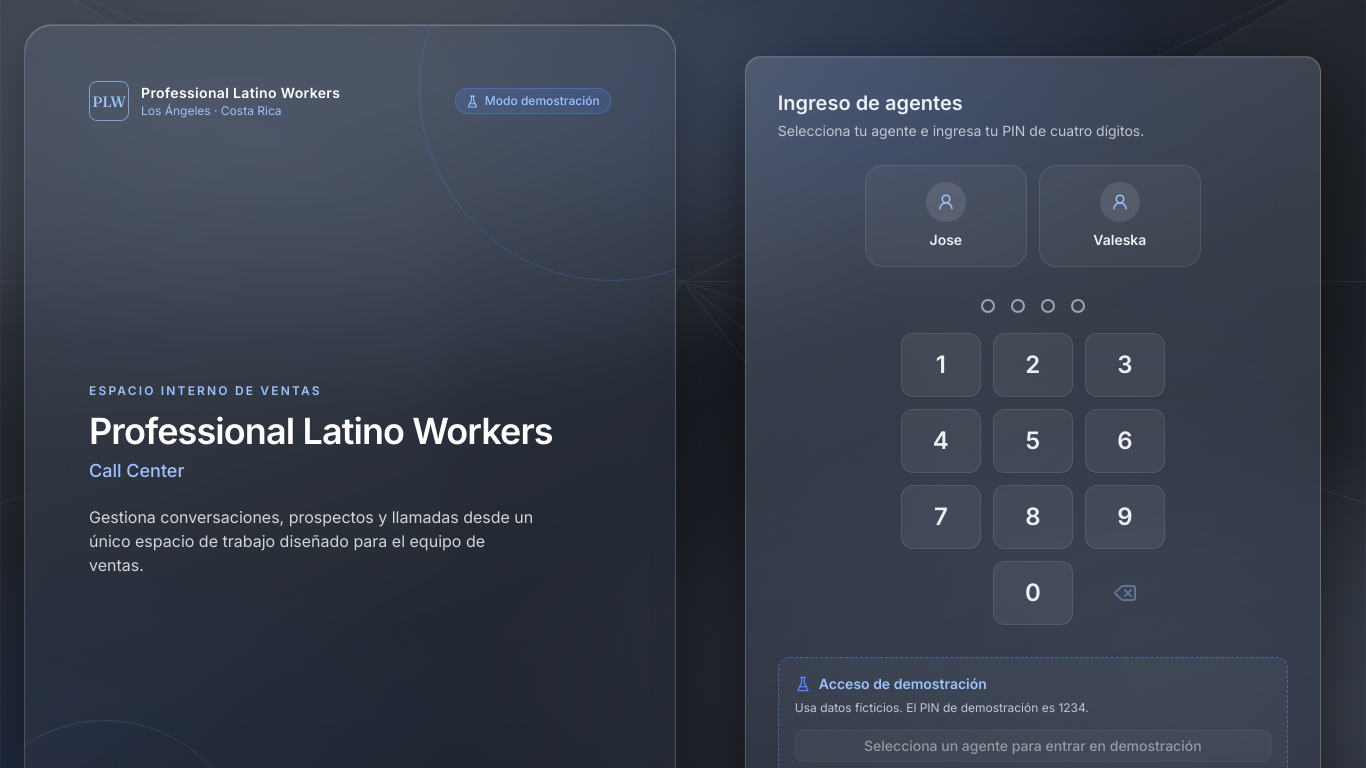
Test: a wrong PIN shows why and can be typed again
The width and height of the screenshot is (1366, 768).
Later steps or results of the test are not shown.
Click the radio button labelled "Jose" at (946, 216), box [865,165,1027,267]
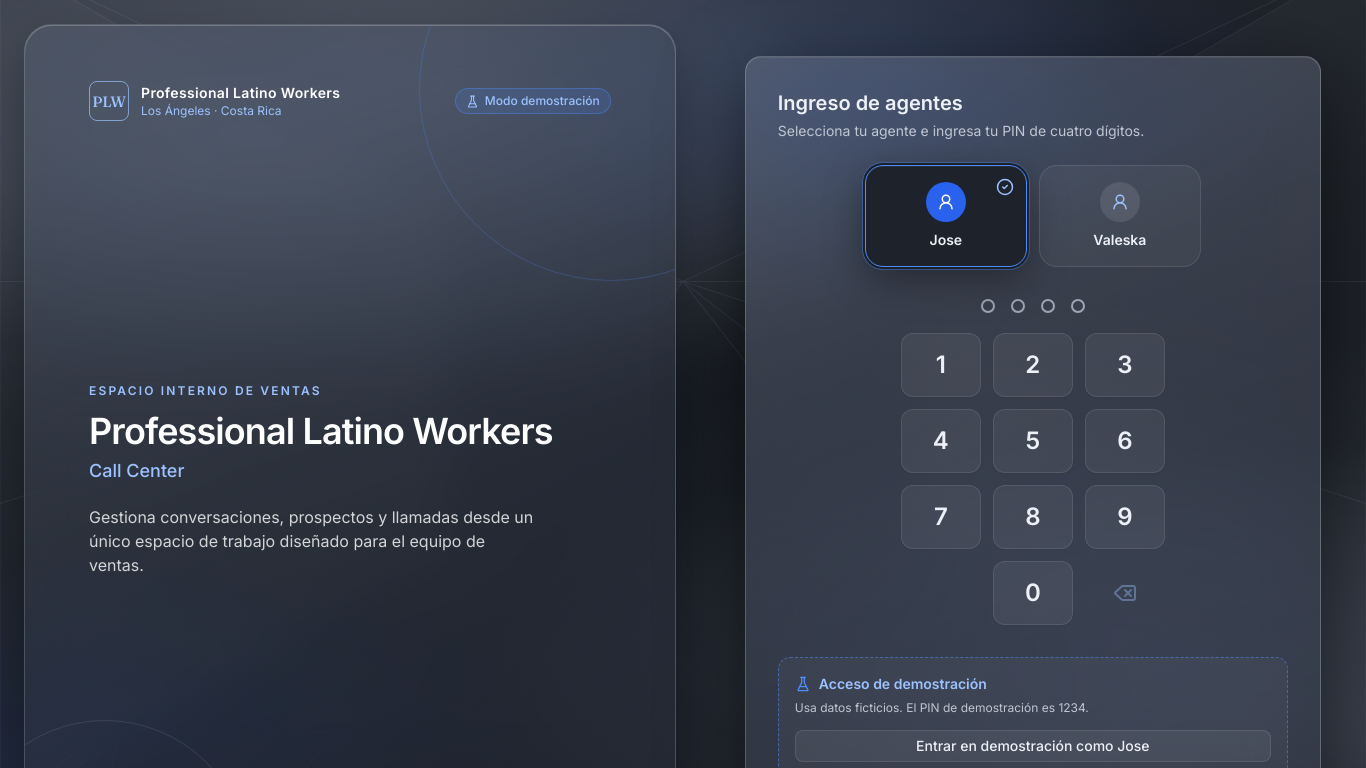
Type keys "9999"
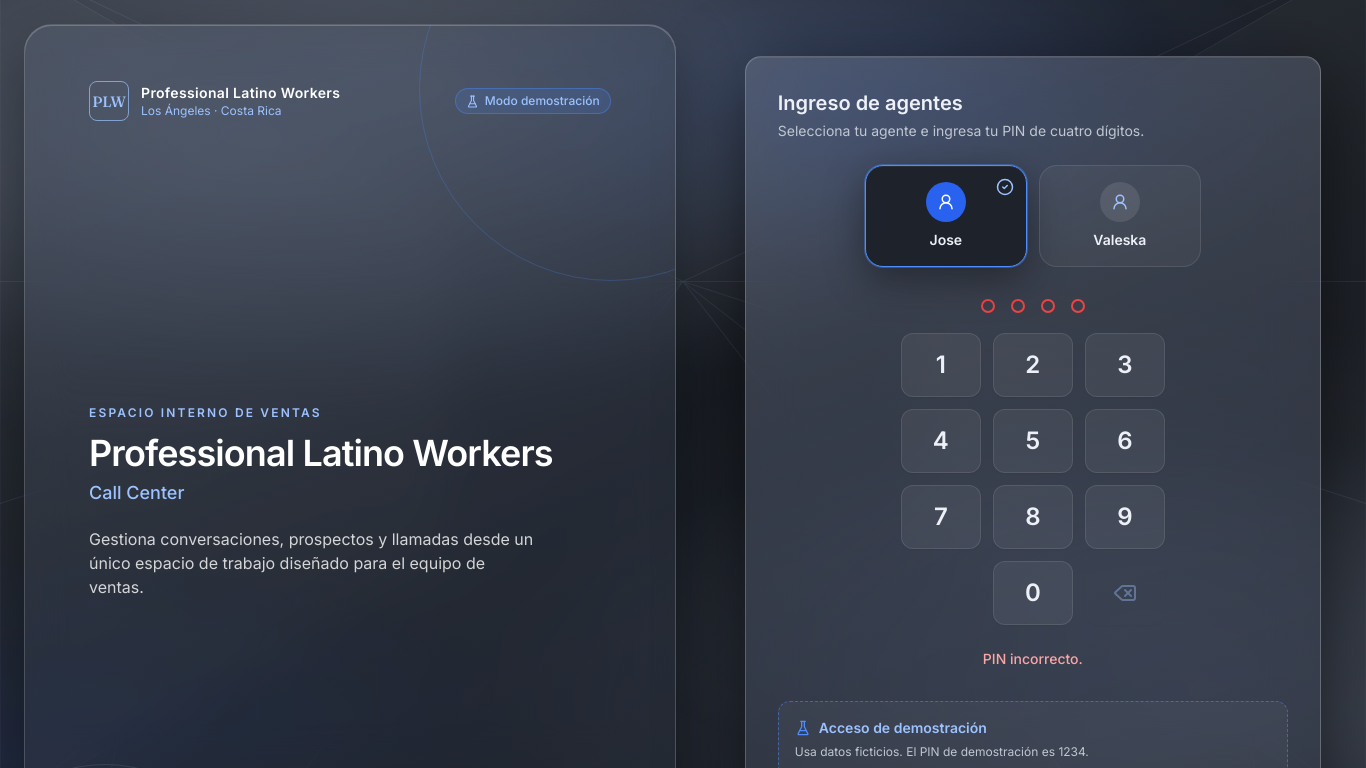
Expected: the message "PIN incorrecto." is shown, [983,649,1083,669]
